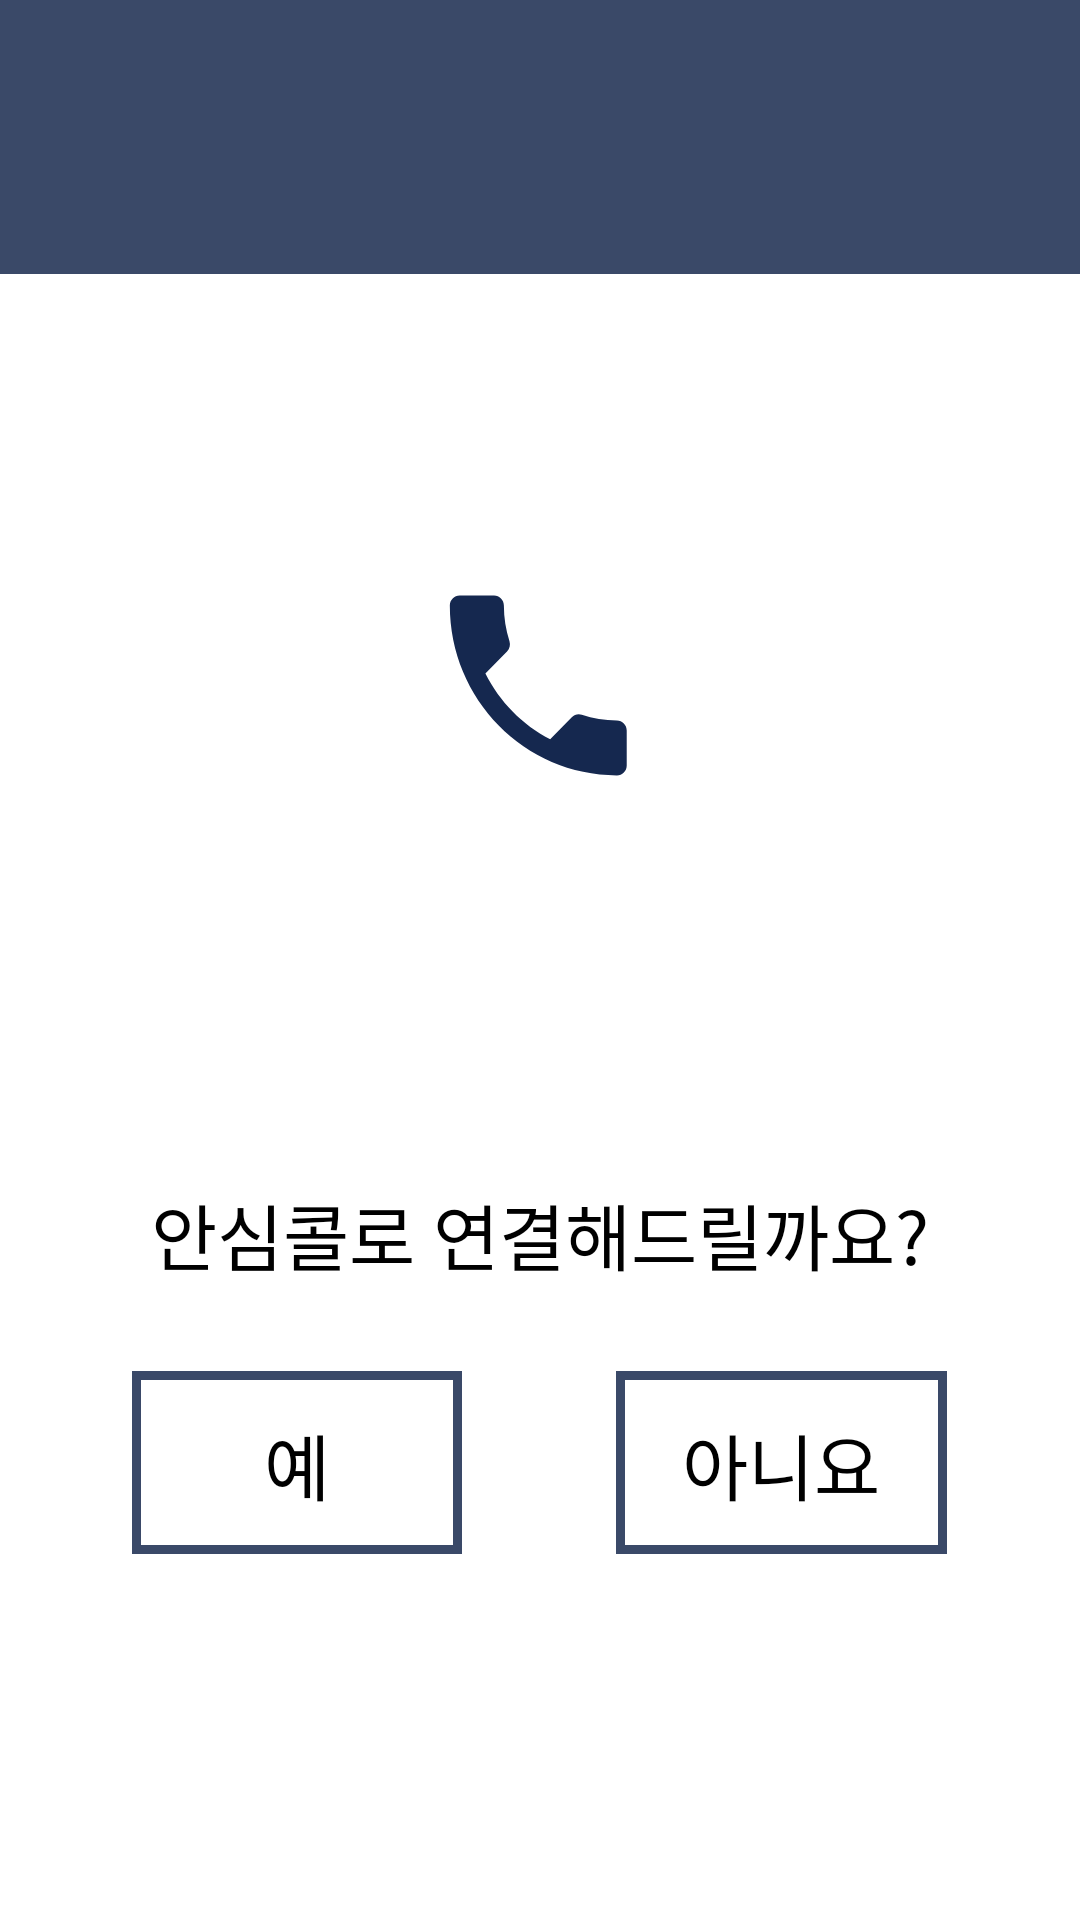

Named icons in this screenshot (1080px×1920px) and their centers, (x,y):
call: (538,685)
